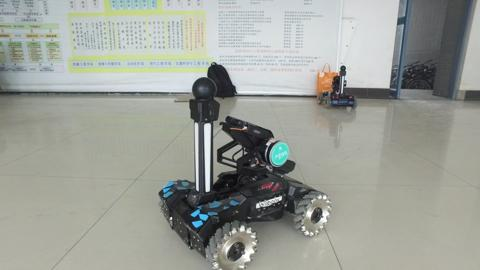bag: (205, 59, 239, 100), (316, 62, 340, 97)
chariot: (157, 76, 334, 270), (317, 64, 358, 111)
